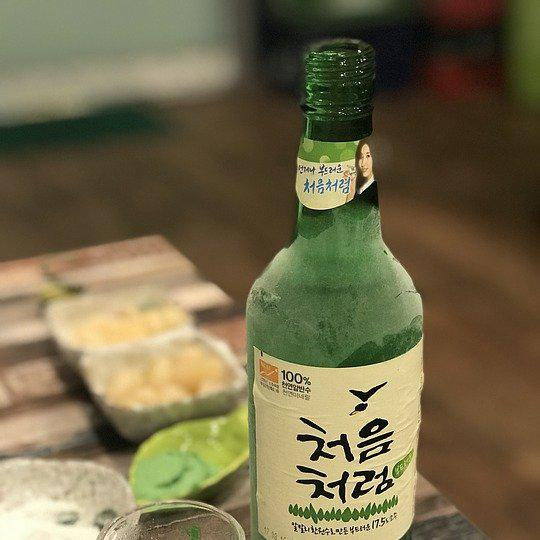soju: (237, 32, 425, 539)
